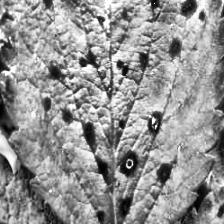Leaf Spot: (0, 0, 224, 224), (0, 147, 112, 223), (127, 168, 224, 224)
